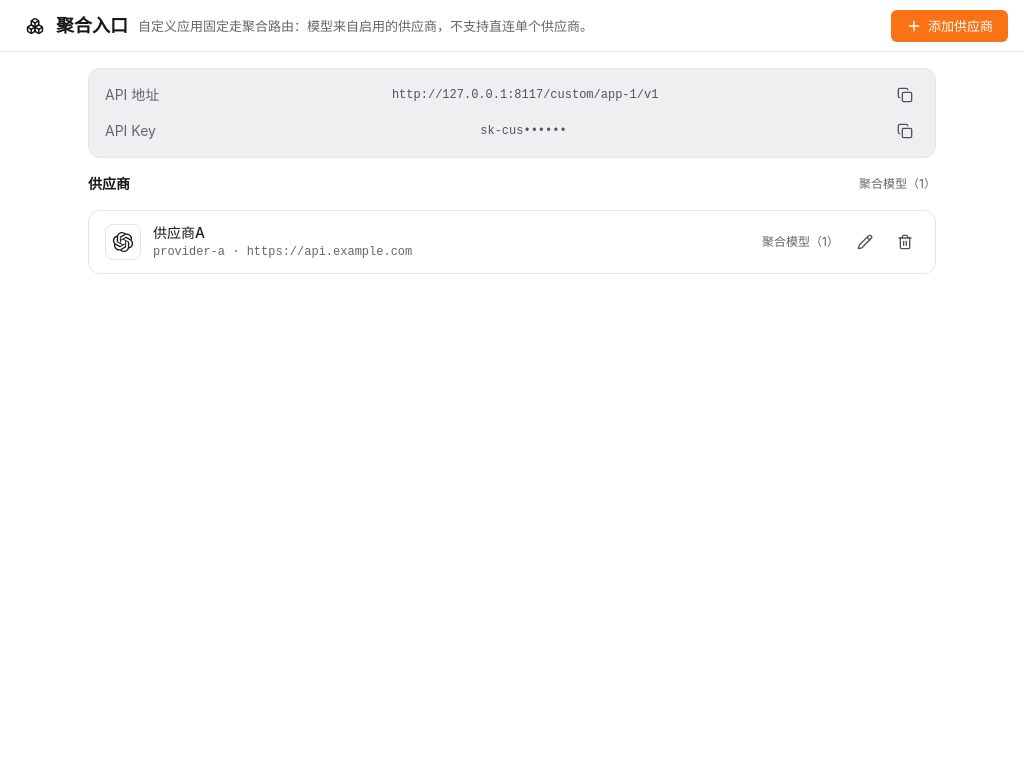
Scenario: CustomAppProvidersPage 编辑与删除 › 删除：确认后调用 deleteCustomAppProvider
Later steps or results of the test are not shown.
Expected: the text "供应商A" is shown, [153,224,205,241]
Click the button named "删除": click(905, 242) [891,228,919,256]
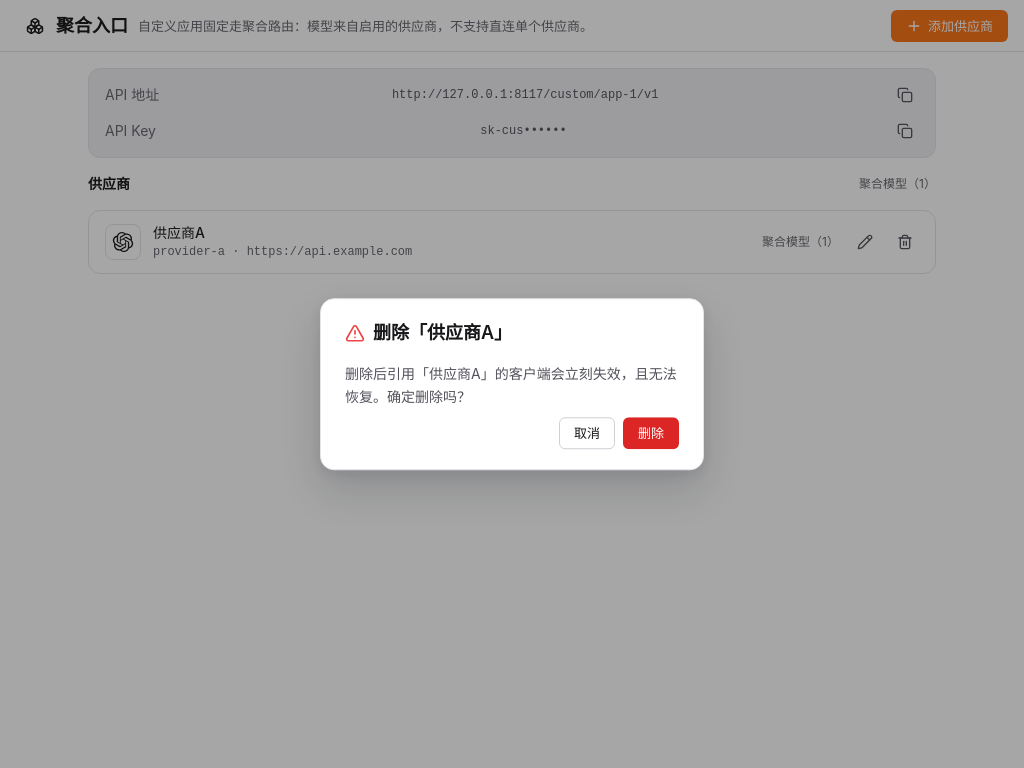
Expected: the heading "删除「供应商A」" is shown, [345,322,512,343]
